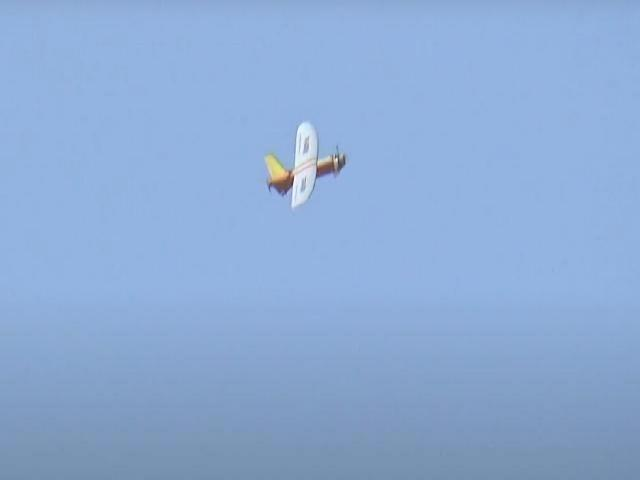iha: (251, 116, 348, 210)
